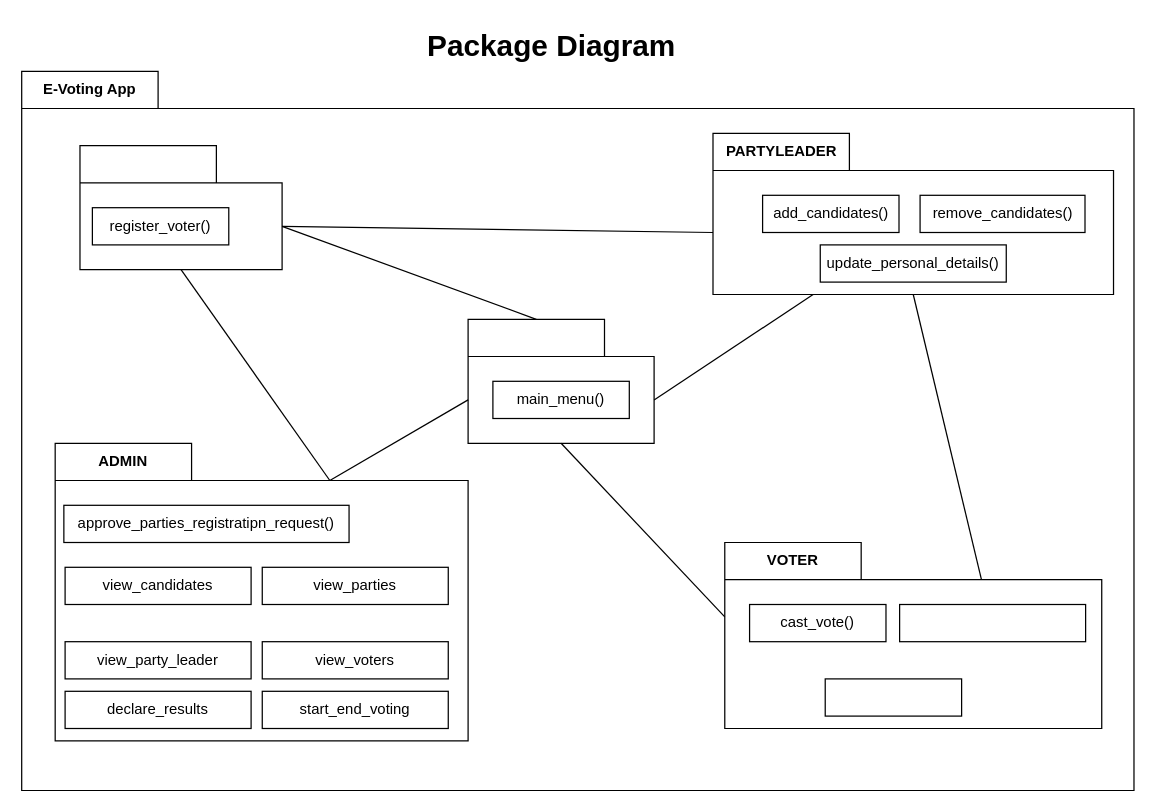
Some shapes in this 1156 by 812 pixel diagram are drawn without their labels. Here are the shapes that lost their labels. From the top down, the centre of each, then its label:
At [180,207]: "REGISTRATION".
At [560,380]: "DASHBOARD".
At [992,622]: "update_personal_details".
At [893,697]: "view_results()".
